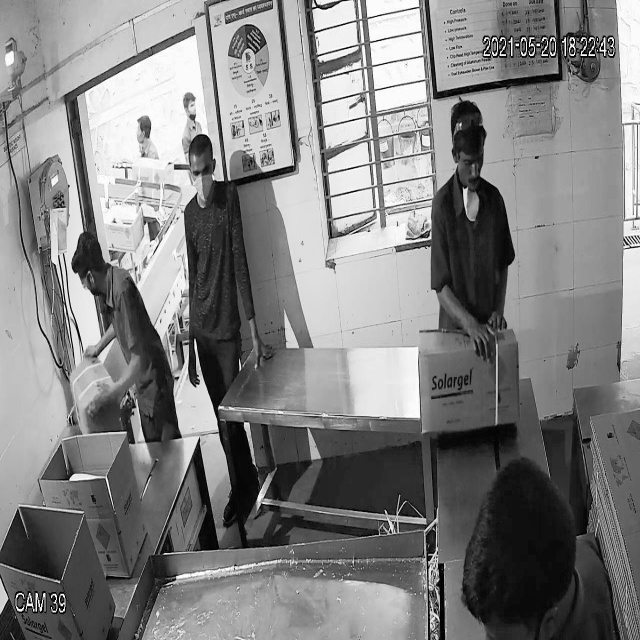Sin_gafas: (451, 143, 489, 173)
